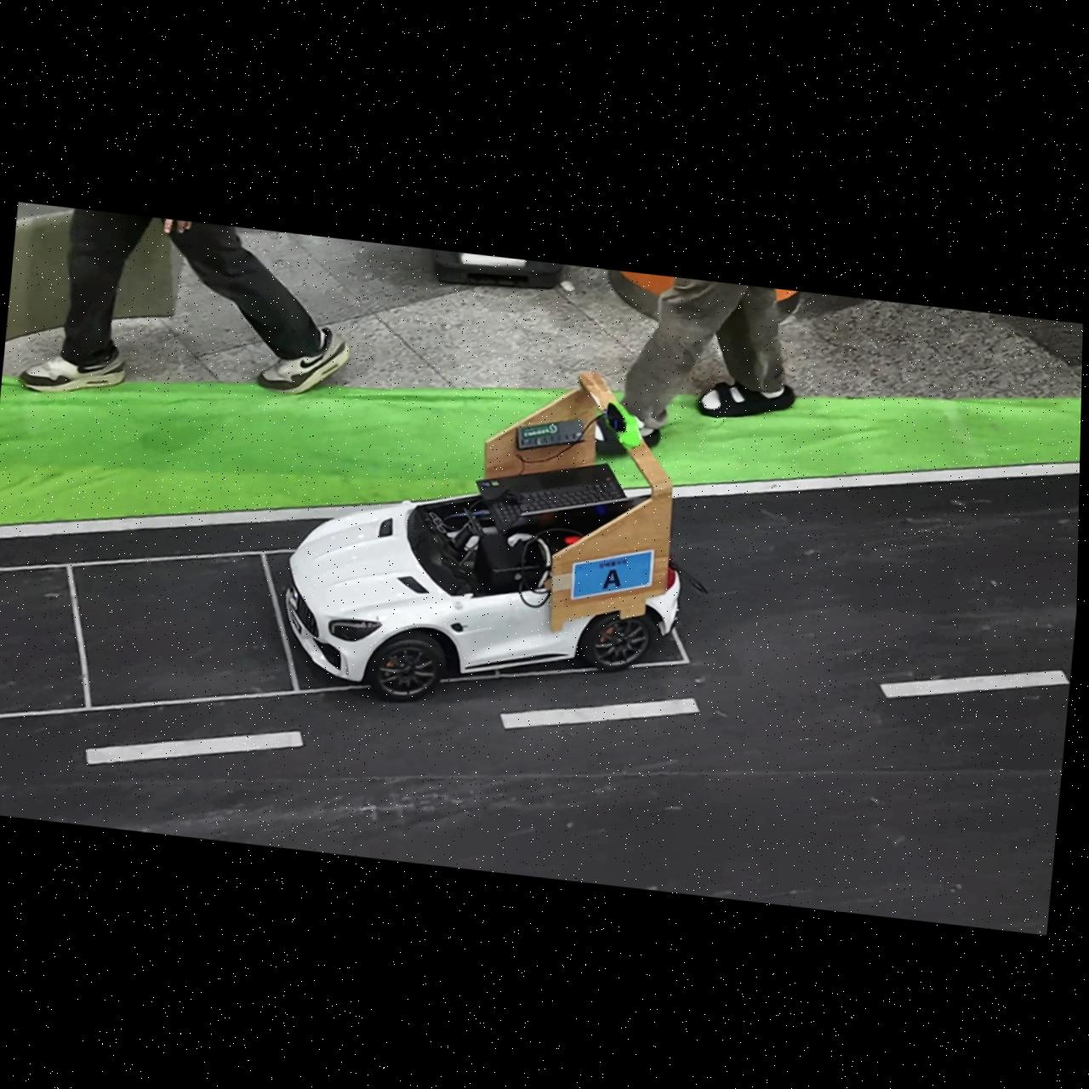broken_line: (86, 731, 303, 764), (501, 698, 700, 729), (880, 670, 1068, 699)
